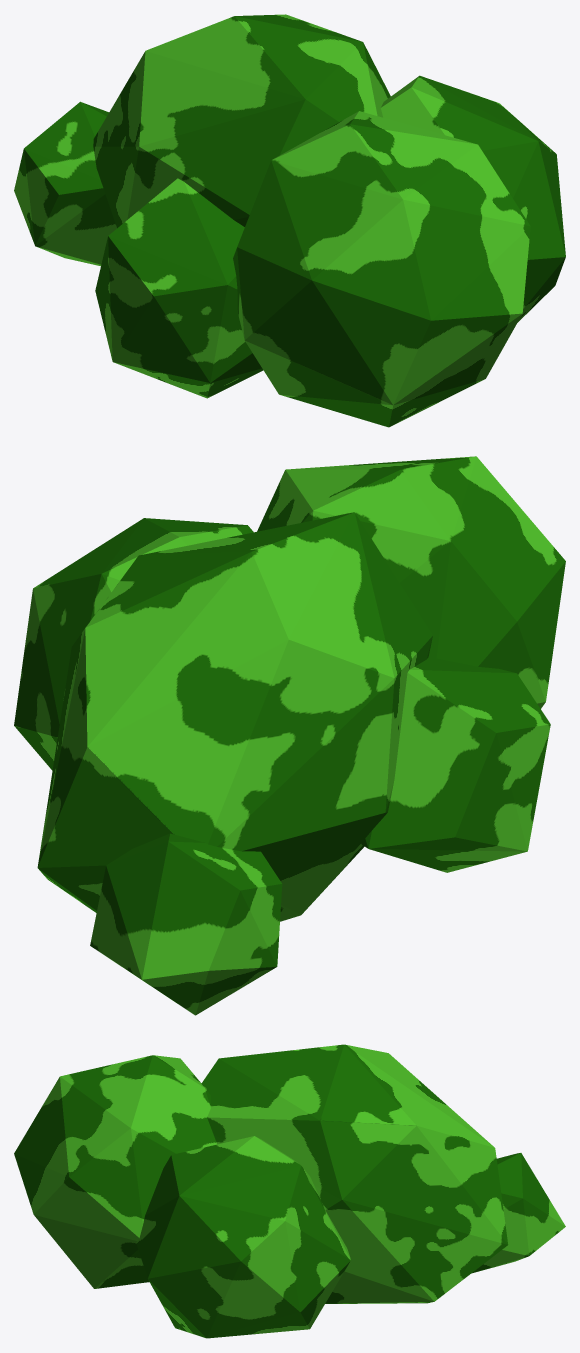
File: bush1.fbx
The picture shows the model from 3 angles, top to bottom: view 1: azimuth 30°, elevation 25°; view 2: azimuth 150°, elevation 25°; view 3: azimuth 270°, elevation 25°; orthographic projection. The views are drawn at different scales.
Visible parts, largest first — view 1: Icosphere.002; view 2: Icosphere.002; view 3: Icosphere.002.
Boxes of the visible parts, box(x1,y1,x2,y2) form: Icosphere.002: box(14, 14, 565, 427); Icosphere.002: box(14, 456, 565, 1015); Icosphere.002: box(14, 1044, 565, 1338).
Size of the model in its own units: 416 by 290 by 582.
Materials: 1 (1 with a texture image).
